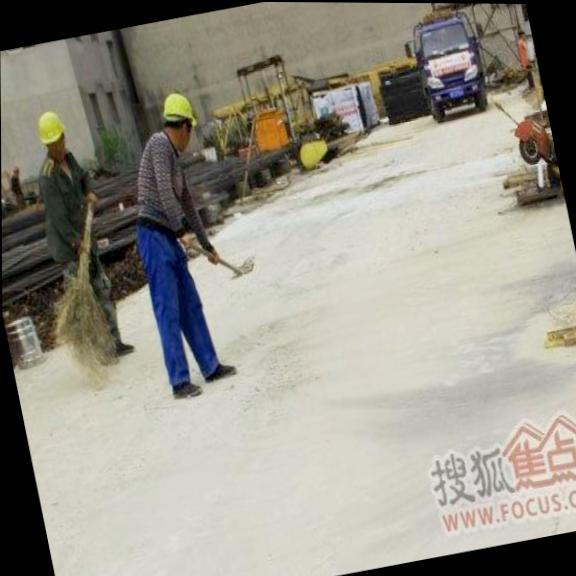no_safety_vest: (134, 133, 196, 226), (42, 151, 97, 234)
